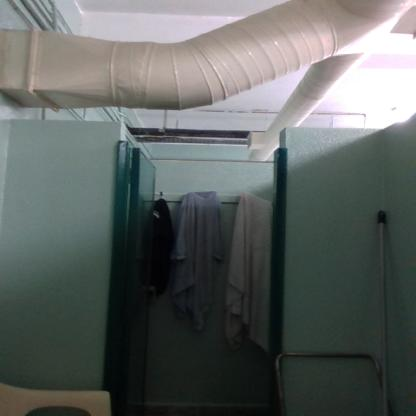open: (110, 117, 306, 416)
